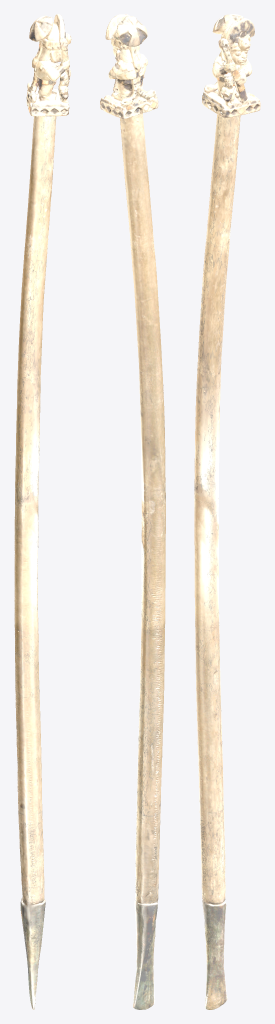
The model's file is baston_mochica.glb.
The picture shows the model from 3 angles, left to right: view 1: azimuth 30°, elevation 25°; view 2: azimuth 150°, elevation 25°; view 3: azimuth 330°, elevation 25°; orthographic projection.
Visible parts, largest first — view 1: Object_2, Object_3; view 2: Object_2, Object_3; view 3: Object_2, Object_3.
Boxes of the visible parts, x1,y1,x2,y2 form: Object_2: (14, 14, 71, 1009); Object_3: (17, 109, 63, 413); Object_2: (100, 14, 165, 1009); Object_3: (120, 105, 163, 414); Object_2: (194, 14, 260, 1009); Object_3: (196, 101, 259, 407).
Bounding box in the file's own units: 104 × 1732 × 86.53.
